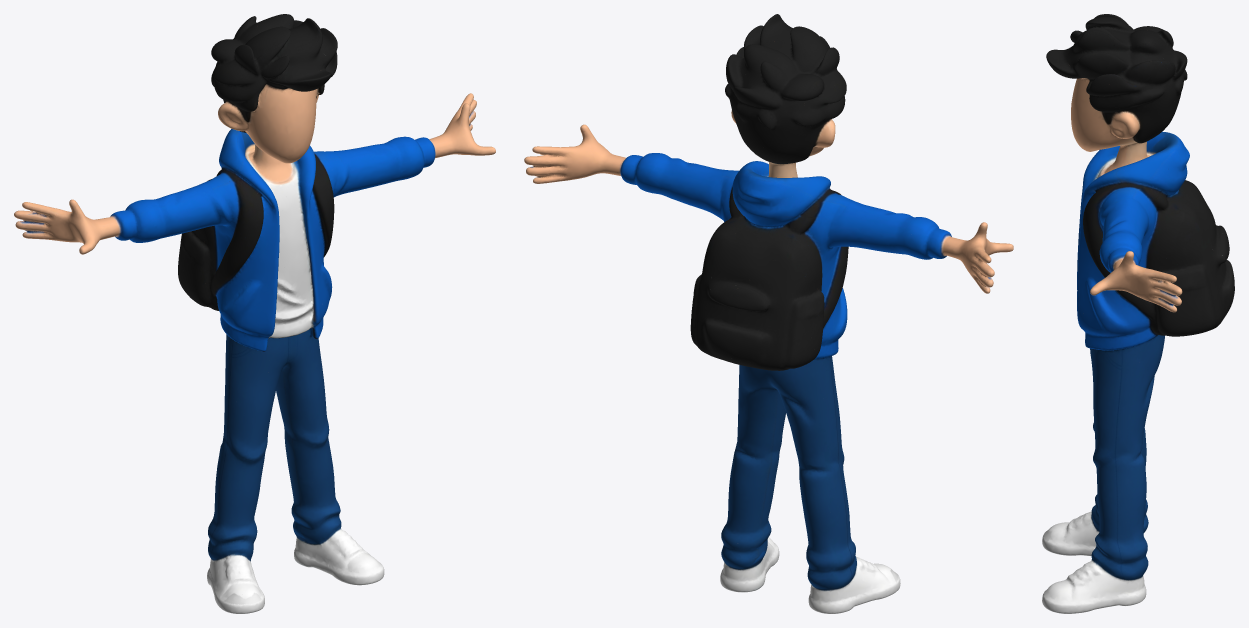
3 renders of one model, left to right at view 1: azimuth 30°, elevation 25°; view 2: azimuth 150°, elevation 25°; view 3: azimuth 270°, elevation 25°, orthographic.
Bounding box in the file's own units: 1.66 × 1.9 × 0.5915.
1 material, 1 textured.
